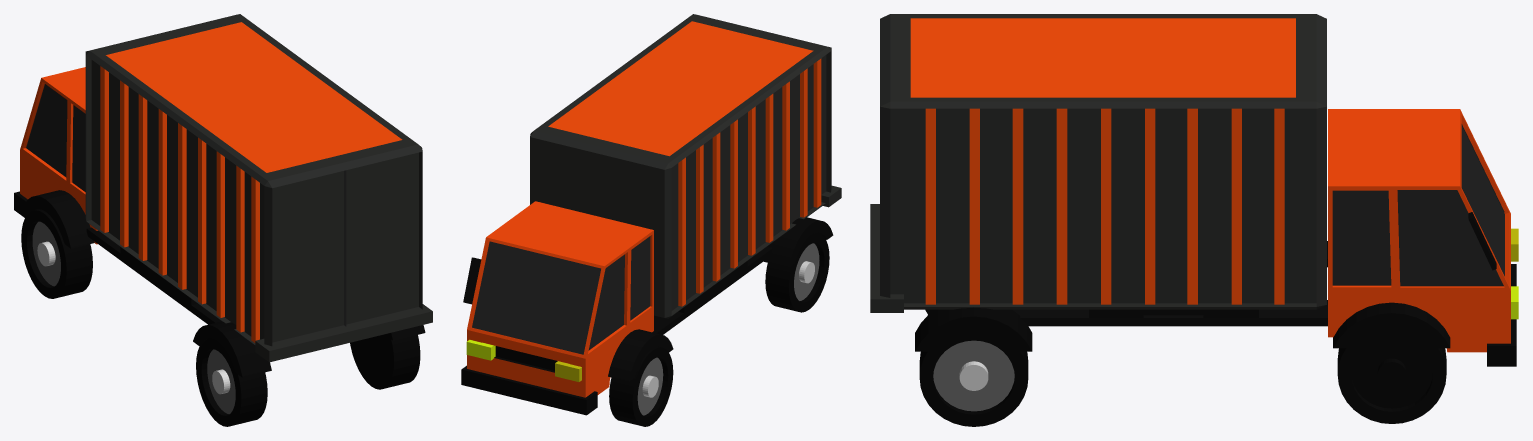
The model's file is truck.obj.
The picture shows the model from 3 angles, left to right: view 1: azimuth 30°, elevation 25°; view 2: azimuth 150°, elevation 25°; view 3: azimuth 270°, elevation 25°; orthographic projection. The views are drawn at different scales.
Visible parts, largest first — view 1: Cube.004, Cube, Cylinder.014, Cylinder.013, Cylinder.016, Cylinder.003, Cylinder.007, Cube.012, Cube.013; view 2: Cube.004, Cube, Cylinder.014, Cylinder.013, Cube.001, Cylinder.003, Cylinder.007, Cube.012, Cube.015, Cube.002, Cube.013, Cube.014; view 3: Cube.004, Cube, Cylinder.009, Cylinder.016, Cube.010, Cylinder.005, Cylinder.001, Cube.011, Cube.001.
Part boxes in pixels (box(x1,y1,x2,y2)): Cube.004: box(85, 14, 432, 362); Cube: box(20, 67, 97, 244); Cylinder.014: box(21, 209, 92, 298); Cylinder.013: box(196, 338, 267, 426); Cylinder.016: box(350, 334, 420, 389); Cylinder.003: box(21, 190, 94, 248); Cylinder.007: box(193, 321, 271, 377); Cube.012: box(86, 227, 221, 324); Cube.013: box(120, 247, 197, 305); Cube.004: box(530, 14, 841, 318); Cube: box(467, 201, 653, 397); Cylinder.014: box(609, 346, 673, 426); Cylinder.013: box(765, 233, 829, 312); Cube.001: box(461, 365, 597, 415); Cylinder.003: box(608, 329, 673, 381); Cylinder.007: box(763, 217, 833, 267); Cube.012: box(652, 247, 772, 334); Cube.015: box(466, 339, 495, 360); Cube.002: box(463, 257, 481, 304); Cube.013: box(678, 261, 747, 312); Cube.014: box(555, 361, 581, 381); Cube.004: box(870, 14, 1326, 312); Cube: box(1328, 109, 1510, 352); Cylinder.009: box(1337, 325, 1446, 423); Cylinder.016: box(919, 329, 1028, 426); Cube.010: box(1012, 300, 1327, 326); Cylinder.005: box(915, 307, 1032, 351); Cylinder.001: box(1333, 302, 1450, 348); Cube.011: box(1089, 309, 1258, 317); Cube.001: box(1487, 264, 1516, 366).
Size of the model in its own units: 2.77 by 3.82 by 7.08.
